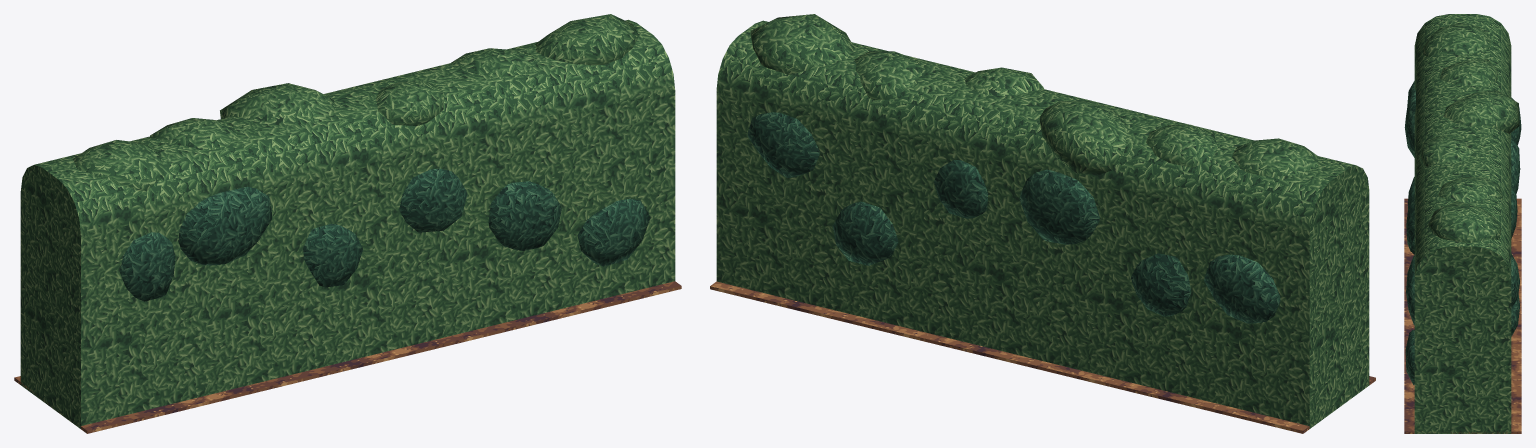
The model's file is border_hedge_straight.glb.
3 renders of one model, left to right at view 1: azimuth 30°, elevation 25°; view 2: azimuth 150°, elevation 25°; view 3: azimuth 270°, elevation 25°, orthographic. The views are drawn at different scales.
Parts seen in each view (by area): view 1: Border; view 2: Border; view 3: Border.
Part boxes in pixels (box(x1,y1,x2,y2)): Border: box(14, 14, 681, 433); Border: box(710, 14, 1375, 433); Border: box(1404, 14, 1521, 433).
Size of the model in its own units: 8 by 3.26 by 1.7.
Materials: 3 (3 with a texture image).
